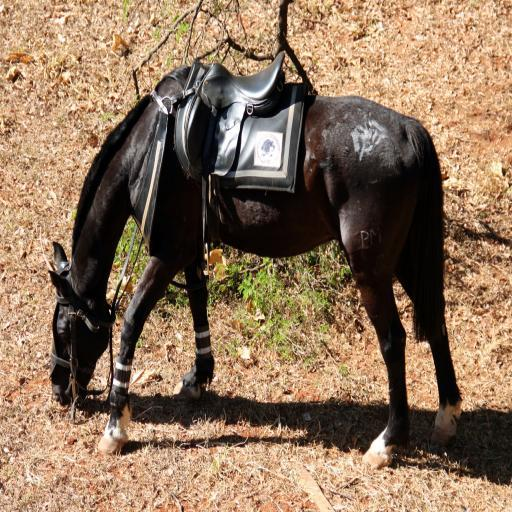Horse: (48, 63, 464, 471)
